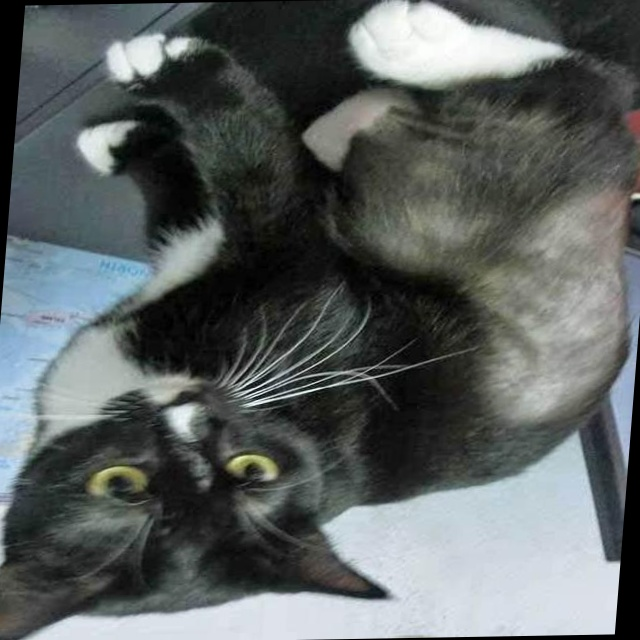hairloss: (493, 159, 634, 430)
